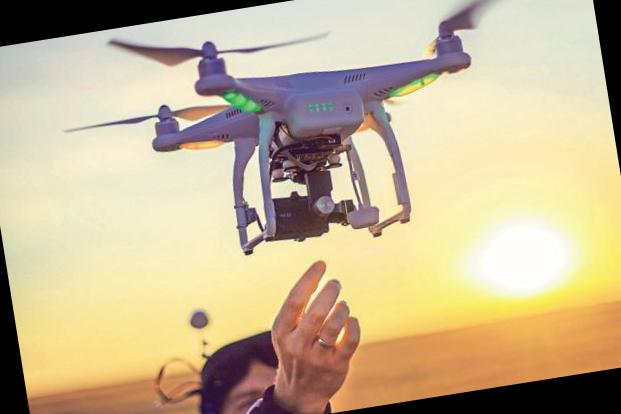drone: (40, 0, 585, 244)
